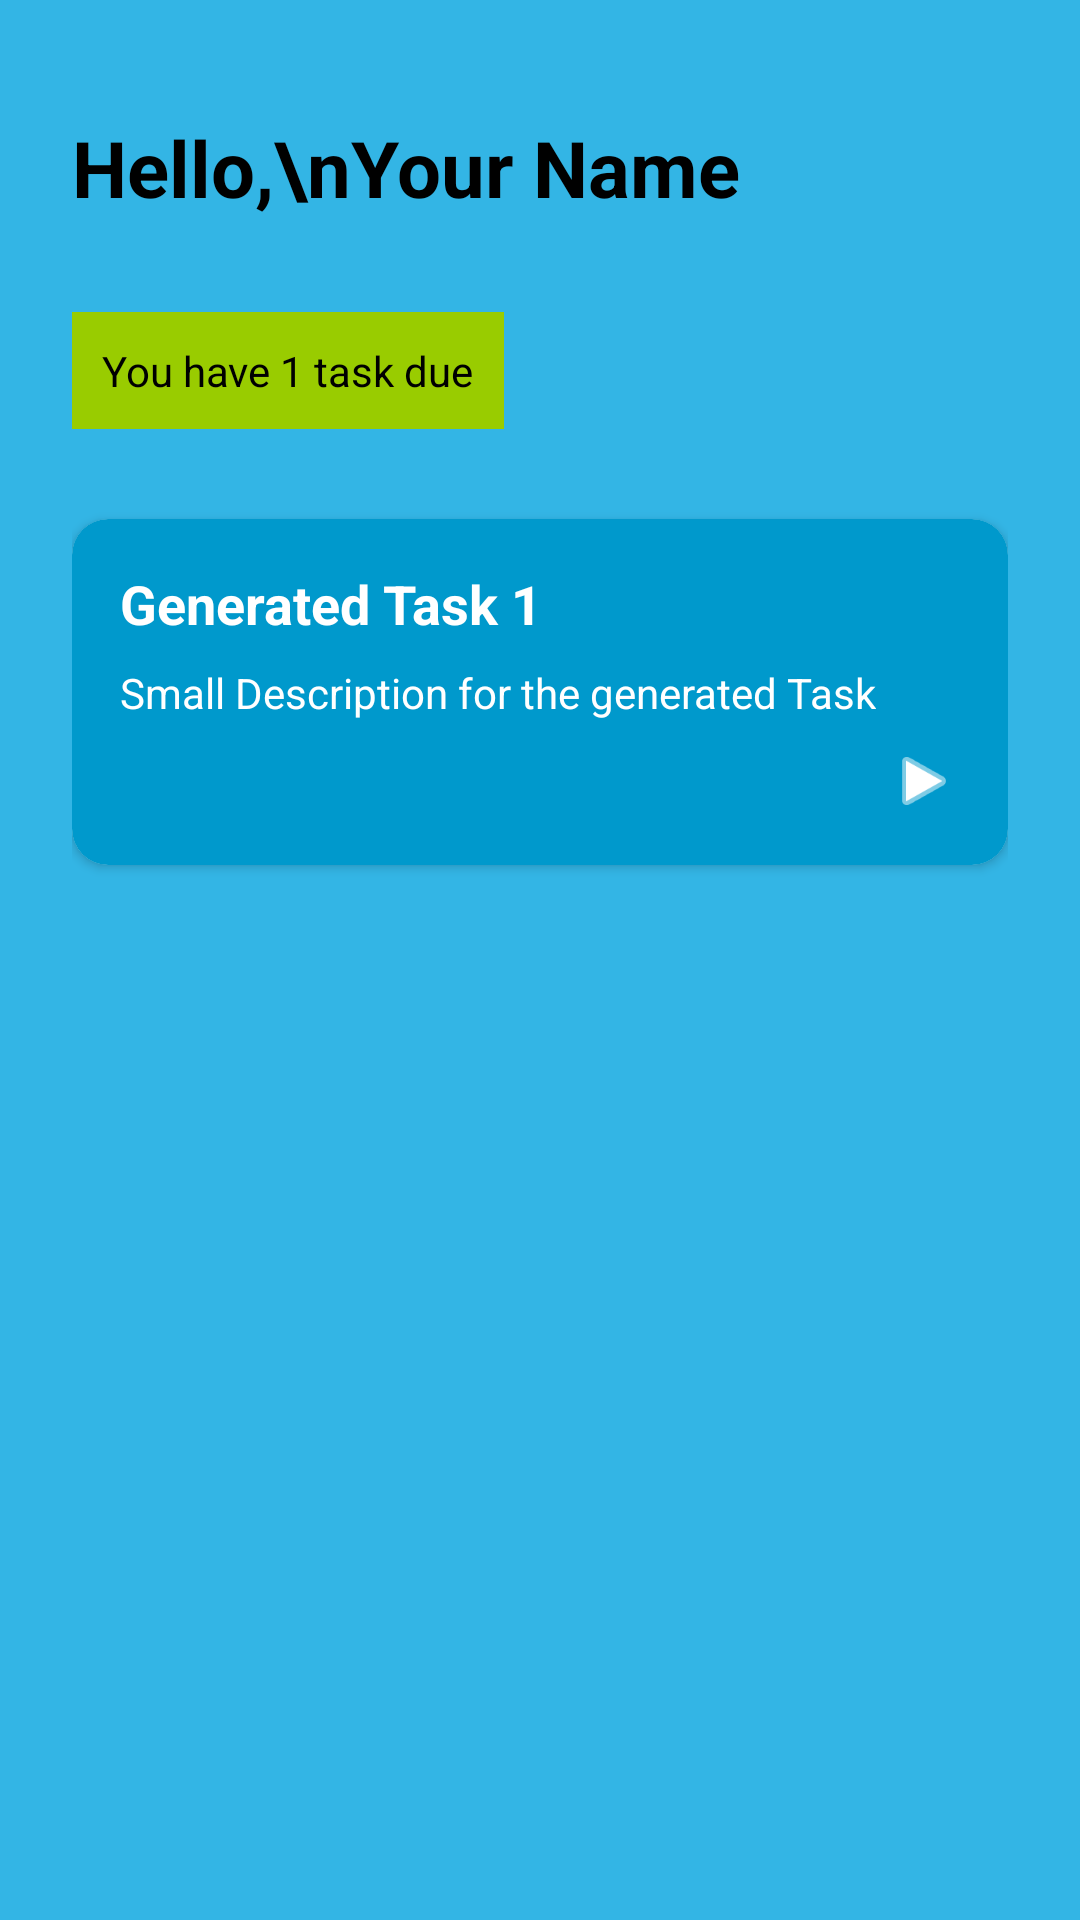

Screen size 1080w x 1920h. Icon name, then its box in pixels as bbox(x1, y1, x2, y2):
play: bbox(902, 757, 946, 805)
